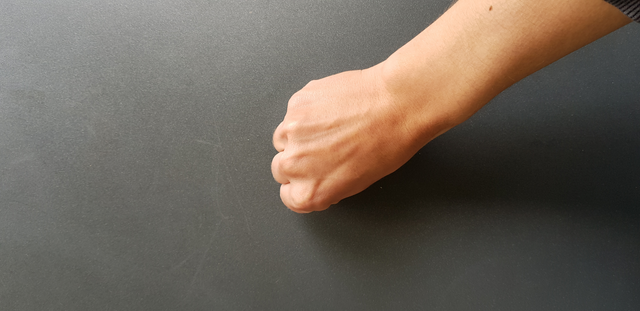Rock: (248, 61, 438, 233)
